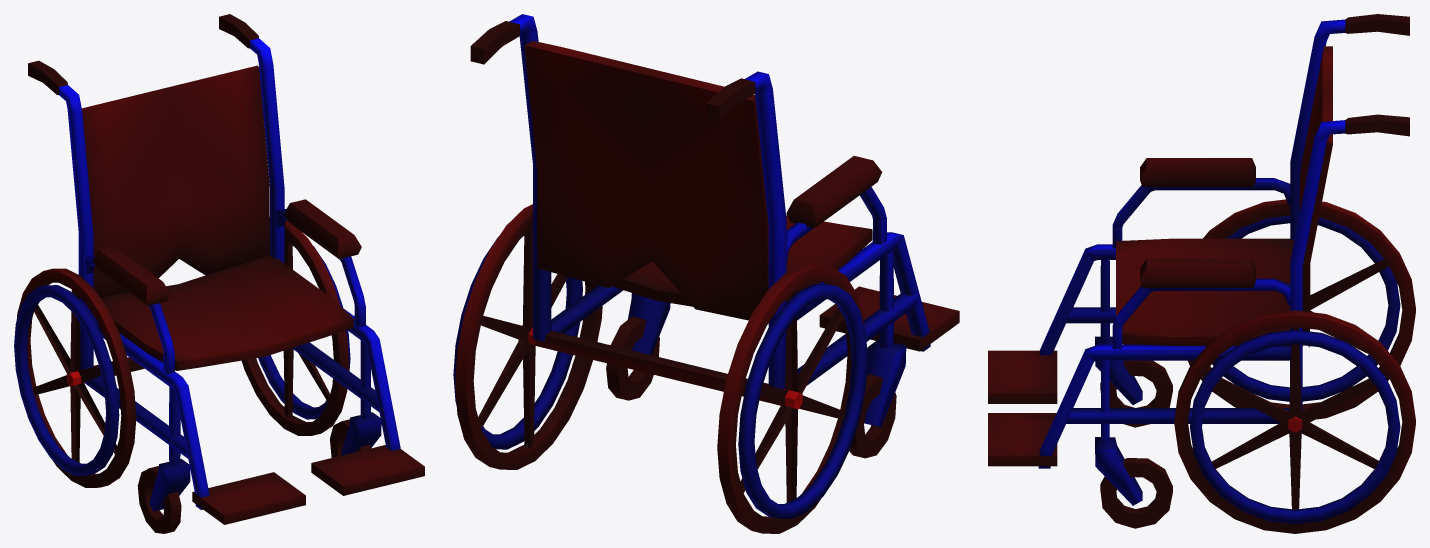
Rendered from Wheelchair.glb.
3 views of the same model, side by side, from view 1: azimuth 30°, elevation 25°; view 2: azimuth 150°, elevation 25°; view 3: azimuth 270°, elevation 25° (orthographic). The views are drawn at different scales.
Visible parts, largest first — view 1: Wheelchair; view 2: Wheelchair; view 3: Wheelchair.
Boxes of the visible parts, x1,y1,x2,y2 form: Wheelchair: (14,14,424,533); Wheelchair: (453,14,959,533); Wheelchair: (988,14,1415,533).
Size of the model in its own units: 3.88 by 5.87 by 5.58.
